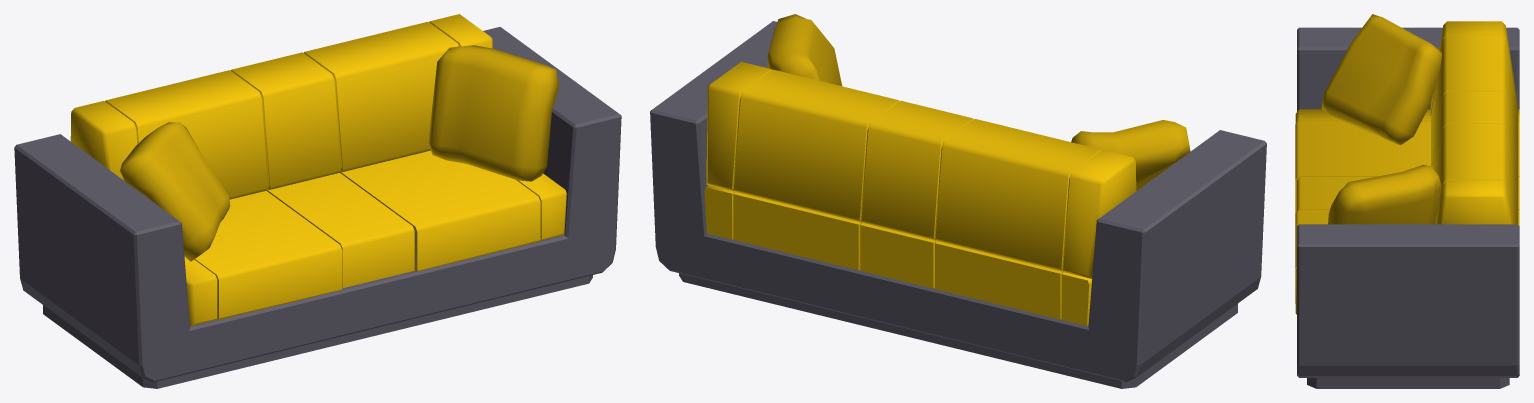
File: SM_Props_Furniture_10.fbx
3 renders of one model, left to right at view 1: azimuth 30°, elevation 25°; view 2: azimuth 150°, elevation 25°; view 3: azimuth 270°, elevation 25°, orthographic. The views are drawn at different scales.
Parts seen in each view (by area): view 1: SM_Props_Furniture_10; view 2: SM_Props_Furniture_10; view 3: SM_Props_Furniture_10.
Part boxes in pixels (bbox=[...]): SM_Props_Furniture_10: bbox=[14, 14, 621, 388]; SM_Props_Furniture_10: bbox=[650, 14, 1266, 388]; SM_Props_Furniture_10: bbox=[1295, 14, 1519, 388].
Size of the model in its own units: 2.06 by 0.827 by 0.8951.
